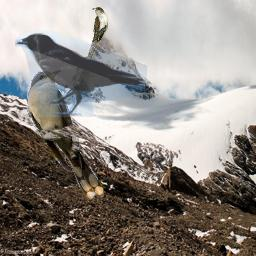Crow: (15, 30, 147, 117)
Cuckoo: (27, 70, 104, 200), (88, 7, 108, 58)
